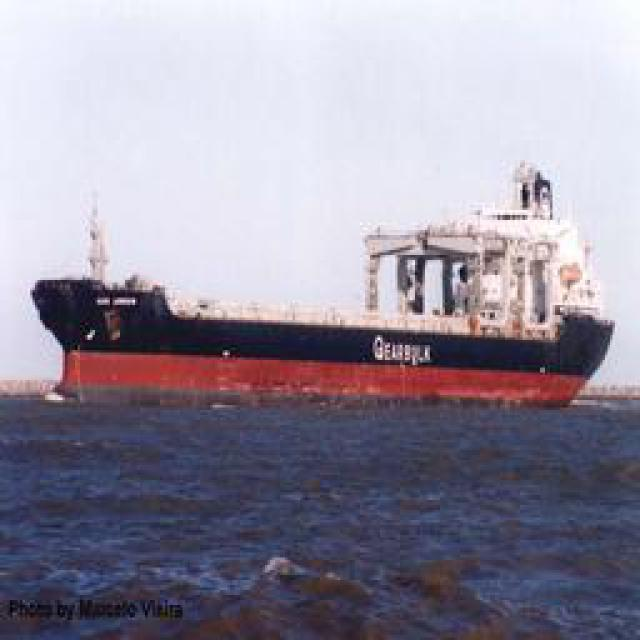Ship: (19, 166, 612, 409)
